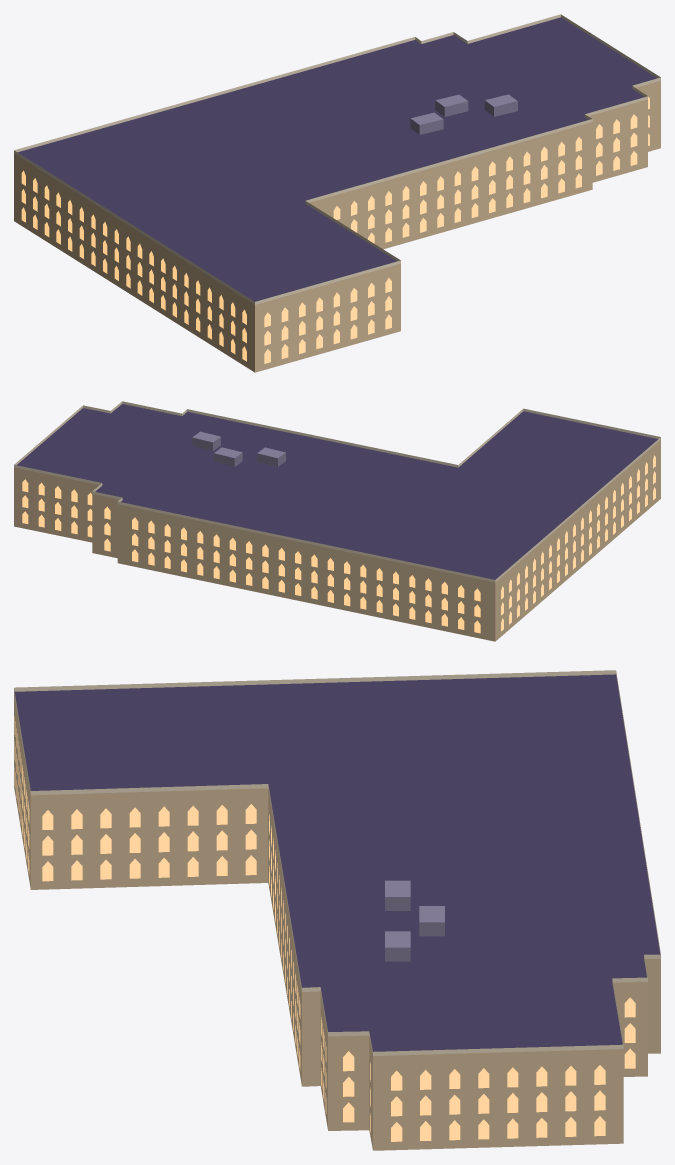
Rendered from b-114-western-student-recreation-centre.glb.
3 renders of one model, top to bottom at view 1: azimuth 30°, elevation 25°; view 2: azimuth 150°, elevation 25°; view 3: azimuth 270°, elevation 25°, orthographic. The views are drawn at different scales.
Visible parts, largest first — view 1: campus/b-114-western-student-recreation-centre-0; view 2: campus/b-114-western-student-recreation-centre-0; view 3: campus/b-114-western-student-recreation-centre-0.
Boxes of the visible parts, left/top/right/bottom form: campus/b-114-western-student-recreation-centre-0: left=14, top=14, right=660, bottom=372; campus/b-114-western-student-recreation-centre-0: left=14, top=401, right=660, bottom=641; campus/b-114-western-student-recreation-centre-0: left=14, top=670, right=660, bottom=1150.
Bounding box in the file's own units: 105 × 14 × 75.55.
